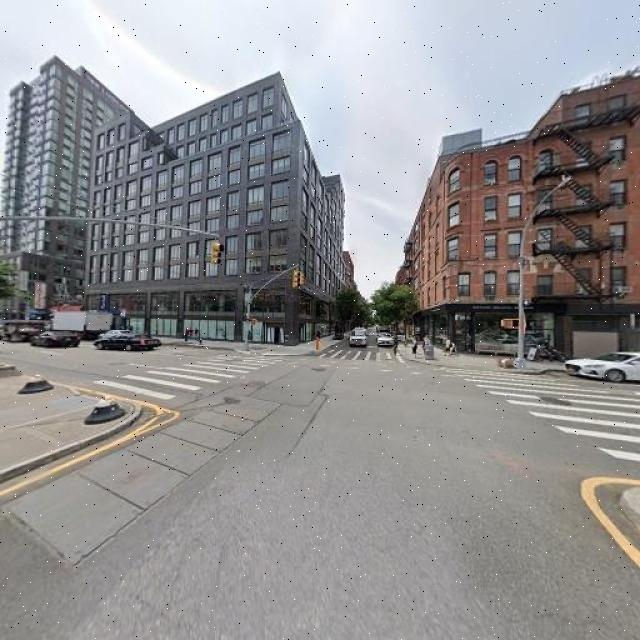Building: (87, 74, 274, 347), (408, 135, 550, 355), (557, 82, 640, 358)
